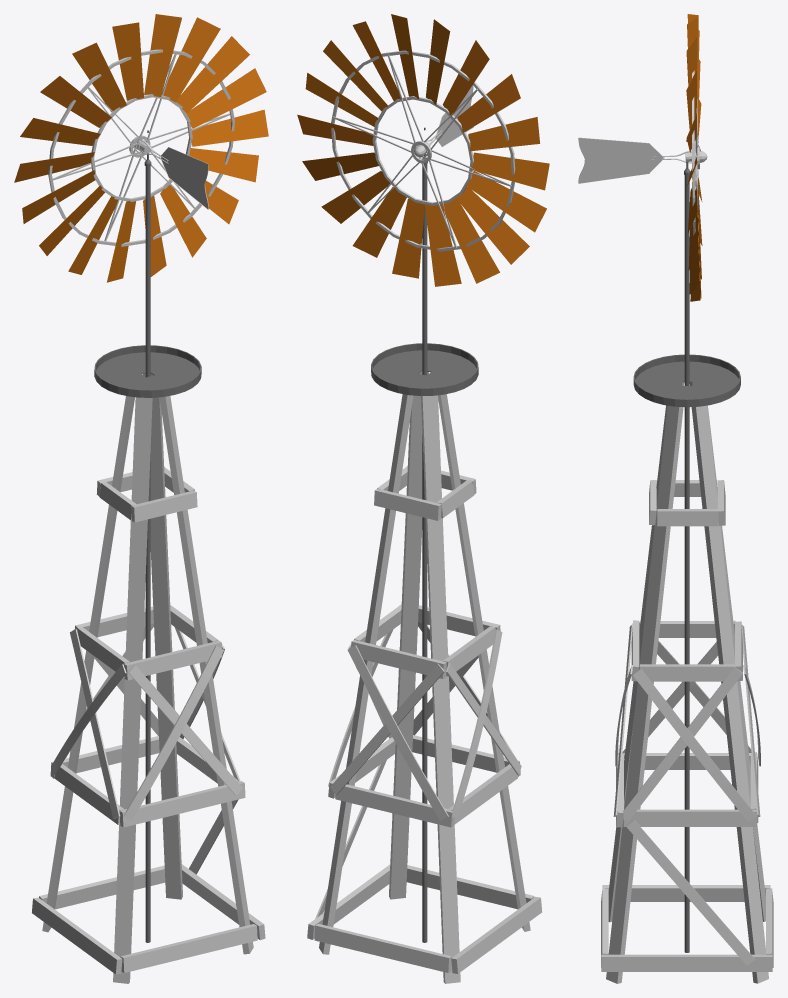
File: windmill.fbx
3 renders of one model, left to right at view 1: azimuth 30°, elevation 25°; view 2: azimuth 150°, elevation 25°; view 3: azimuth 270°, elevation 25°, orthographic.
Visible parts, largest first — view 1: base, ventilateu, shaft, girouette; view 2: base, ventilateu, shaft, girouette; view 3: base, shaft, ventilateu, girouette.
Part boxes in pixels (box(x1,y1,x2,y2)): base: box(32, 345, 265, 983); ventilateu: box(14, 14, 268, 282); shaft: box(144, 130, 151, 942); girouette: box(134, 139, 208, 209); base: box(307, 343, 542, 983); ventilateu: box(297, 14, 549, 286); shaft: box(422, 127, 427, 942); girouette: box(414, 85, 473, 157); base: box(601, 354, 773, 983); shaft: box(684, 139, 690, 952); ventilateu: box(686, 14, 702, 301); girouette: box(578, 137, 707, 183).
Bounding box in the file's own units: 228 × 809 × 155.
